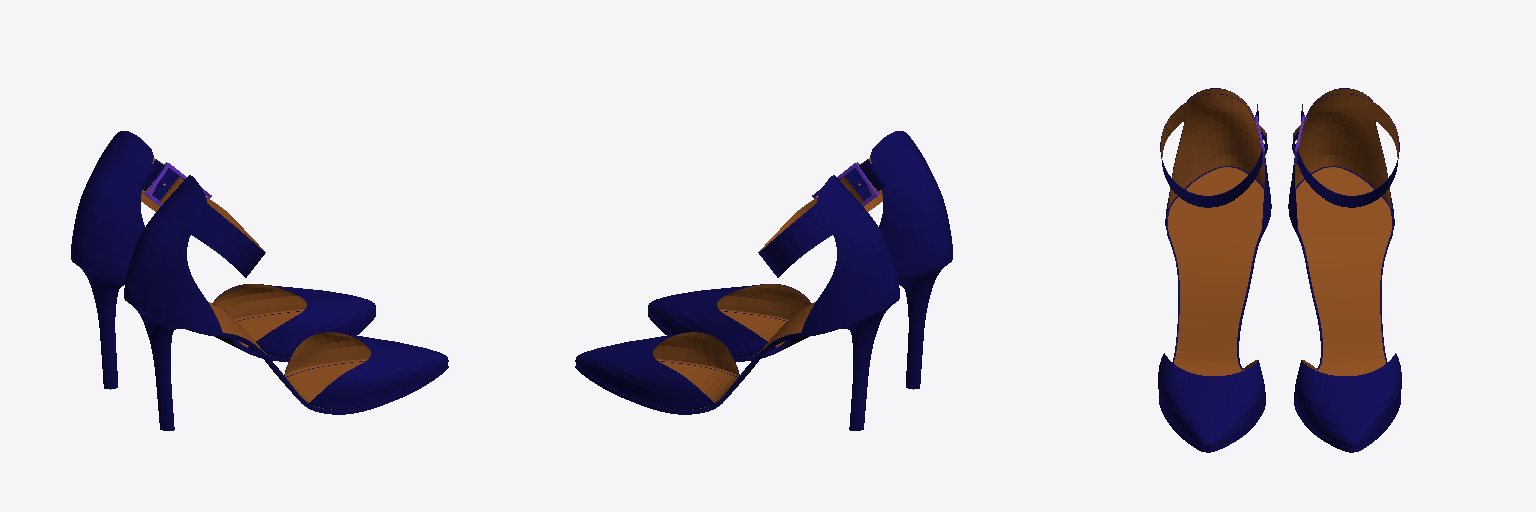
Rendered from shoe.obj.
3 renders of one model, left to right at view 1: azimuth 30°, elevation 25°; view 2: azimuth 150°, elevation 25°; view 3: azimuth 270°, elevation 25°, orthographic.
Visible parts, largest first — view 1: Shoe_-_Left.001_Plane.016, Shoe_-_Left_Plane.010; view 2: Shoe_-_Left_Plane.010, Shoe_-_Left.001_Plane.016; view 3: Shoe_-_Left_Plane.010, Shoe_-_Left.001_Plane.016.
Boxes of the visible parts, x1=… form: Shoe_-_Left.001_Plane.016: x1=124, y1=175, x2=448, y2=430; Shoe_-_Left_Plane.010: x1=71, y1=131, x2=375, y2=389; Shoe_-_Left_Plane.010: x1=575, y1=175, x2=899, y2=430; Shoe_-_Left.001_Plane.016: x1=648, y1=131, x2=952, y2=389; Shoe_-_Left_Plane.010: x1=1288, y1=88, x2=1401, y2=452; Shoe_-_Left.001_Plane.016: x1=1158, y1=88, x2=1271, y2=452.
Bounding box in the file's own units: 3.95 × 2.99 × 2.69.